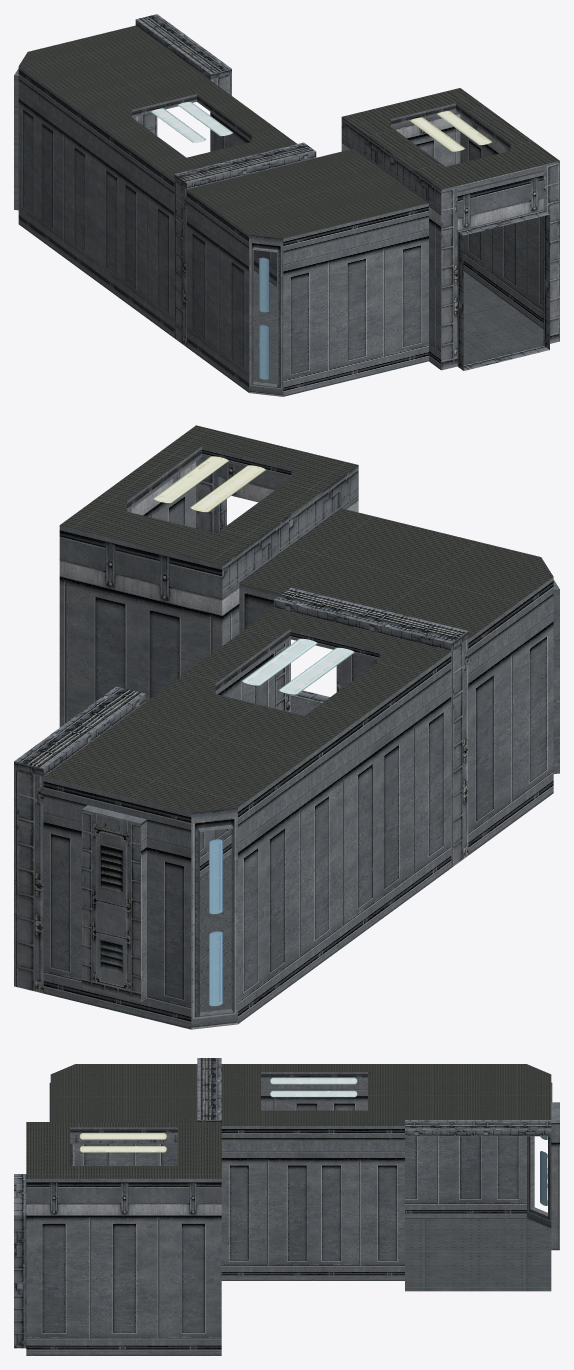
Rendered from poi_all_impl_bunker_s01_r2_hall1_mesh_r2.fbx.
The picture shows the model from 3 angles, top to bottom: view 1: azimuth 30°, elevation 25°; view 2: azimuth 150°, elevation 25°; view 3: azimuth 270°, elevation 25°; orthographic projection. The views are drawn at different scales.
Parts seen in each view (by area): view 1: mesh_node; view 2: mesh_node; view 3: mesh_node.
Boxes of the visible parts, x1,y1,x2,y2 form: mesh_node: (14,14,559,396); mesh_node: (14,425,559,1029); mesh_node: (14,1058,559,1355).
Bounding box in the file's own units: 6.64 × 4.17 × 11.18.
